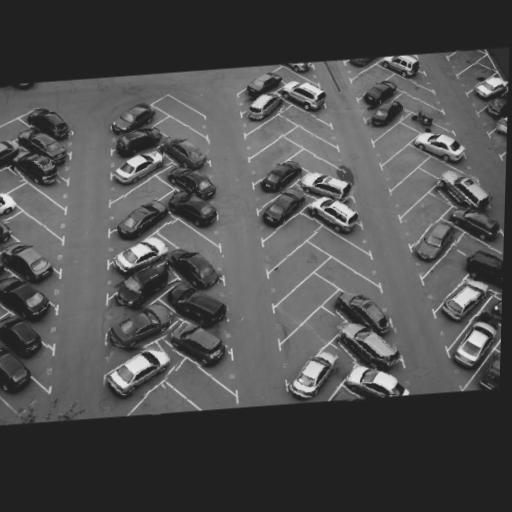busy: (104, 344, 171, 400), (334, 321, 398, 377), (111, 240, 170, 296), (108, 302, 171, 353), (171, 319, 229, 370), (334, 290, 393, 336), (174, 284, 229, 331), (113, 262, 169, 308), (167, 248, 224, 293), (0, 277, 55, 323), (286, 353, 338, 401), (344, 356, 398, 401), (437, 170, 496, 211), (3, 243, 58, 284), (0, 317, 50, 360), (114, 201, 168, 238), (466, 247, 503, 301), (454, 321, 495, 369), (442, 278, 484, 324), (14, 151, 66, 188), (412, 221, 457, 263), (113, 238, 162, 276), (312, 196, 359, 235), (170, 192, 219, 229), (301, 170, 353, 203), (0, 339, 32, 392), (162, 135, 209, 171), (20, 129, 69, 163), (261, 189, 304, 227), (111, 152, 161, 184), (174, 167, 220, 201), (110, 103, 156, 136), (416, 131, 465, 161), (456, 208, 500, 240), (30, 107, 74, 139), (260, 161, 301, 194), (116, 128, 160, 158), (244, 90, 286, 121), (284, 82, 327, 109), (368, 99, 405, 128), (243, 71, 284, 95), (473, 73, 507, 100), (363, 81, 395, 105), (0, 138, 19, 177), (387, 54, 420, 75), (485, 92, 508, 119), (0, 193, 18, 226), (412, 110, 437, 129), (0, 220, 12, 251), (494, 114, 508, 140), (0, 247, 10, 281), (349, 57, 384, 66), (283, 62, 309, 73)
free: (300, 319, 332, 352), (273, 222, 306, 251), (124, 186, 158, 211), (183, 376, 215, 401), (172, 232, 206, 254), (294, 286, 325, 309), (433, 263, 460, 288), (283, 255, 313, 277), (23, 195, 50, 218), (20, 226, 48, 248), (357, 67, 384, 89), (414, 201, 441, 222), (329, 242, 354, 264), (152, 400, 188, 415), (259, 123, 284, 143), (383, 131, 407, 150), (333, 269, 356, 288), (401, 179, 424, 197), (308, 154, 326, 177), (170, 124, 192, 142), (455, 50, 478, 67), (393, 156, 417, 172), (402, 78, 421, 98), (264, 148, 287, 164), (299, 112, 319, 130), (403, 96, 423, 112), (301, 134, 319, 150), (468, 67, 486, 81), (429, 161, 447, 175), (172, 105, 189, 118)
